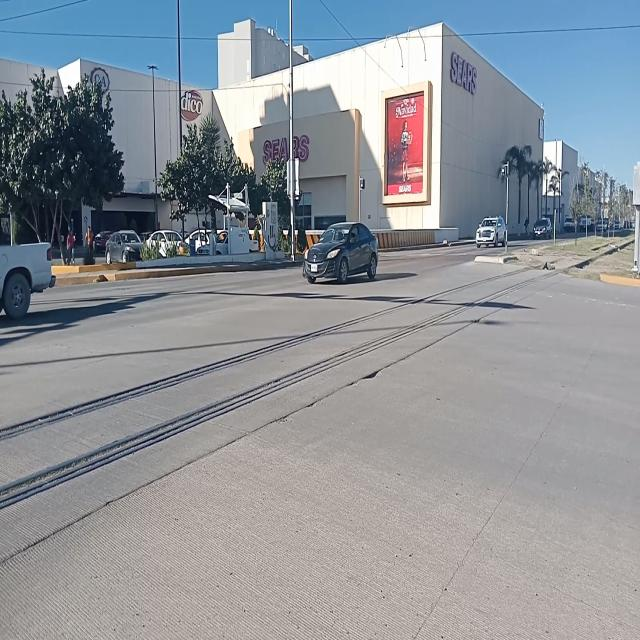Auto: (302, 222, 380, 284)
